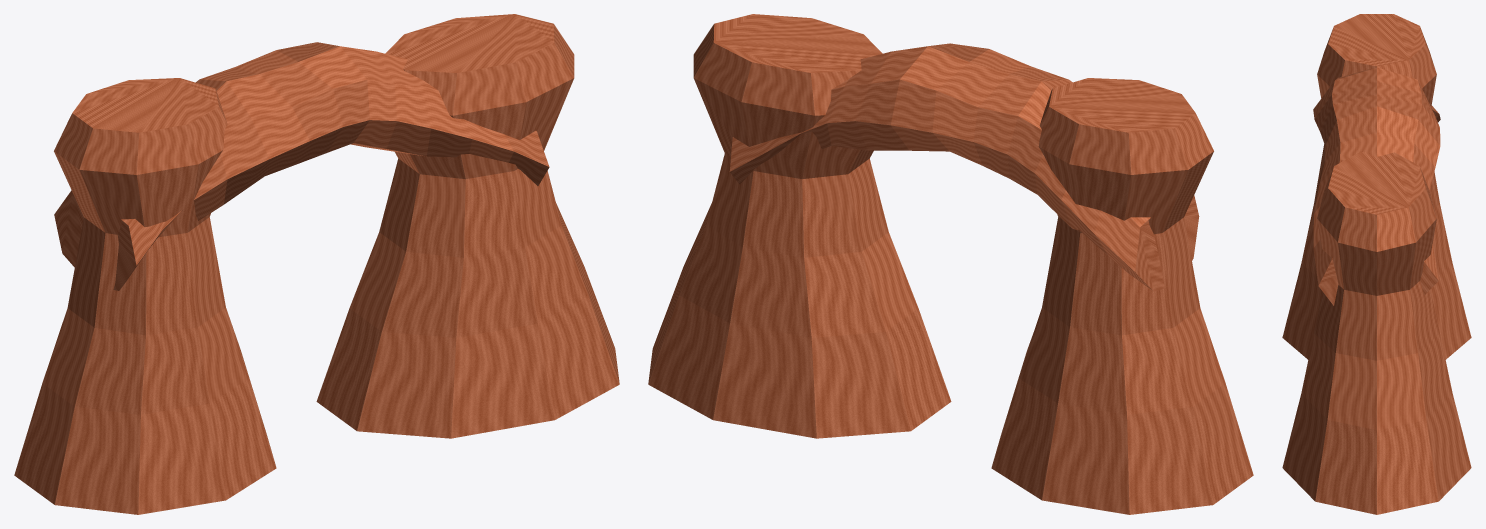
The model's file is sandstone_window.glb.
The picture shows the model from 3 angles, left to right: view 1: azimuth 30°, elevation 25°; view 2: azimuth 150°, elevation 25°; view 3: azimuth 270°, elevation 25°; orthographic projection. The views are drawn at different scales.
Size of the model in its own units: 33.98 by 20.66 by 11.82.
Materials: 1 (1 with a texture image).
